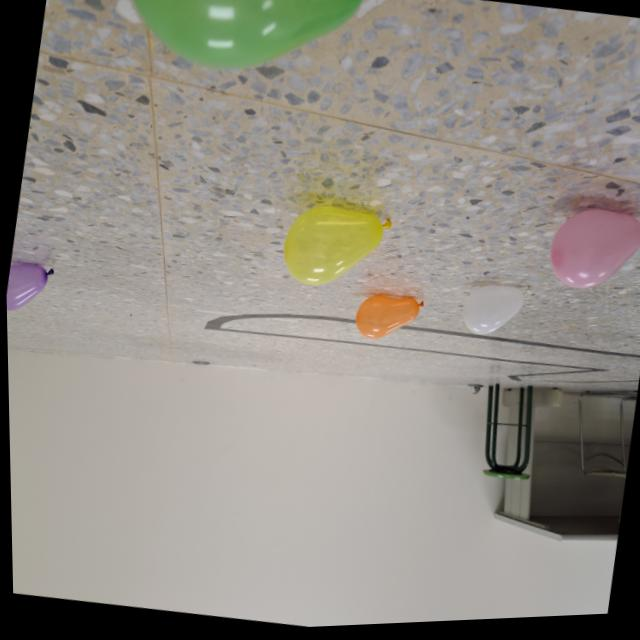other: (102, 0, 383, 98), (274, 197, 394, 302), (544, 205, 640, 305), (350, 286, 424, 353), (458, 284, 528, 347), (5, 259, 55, 320)
